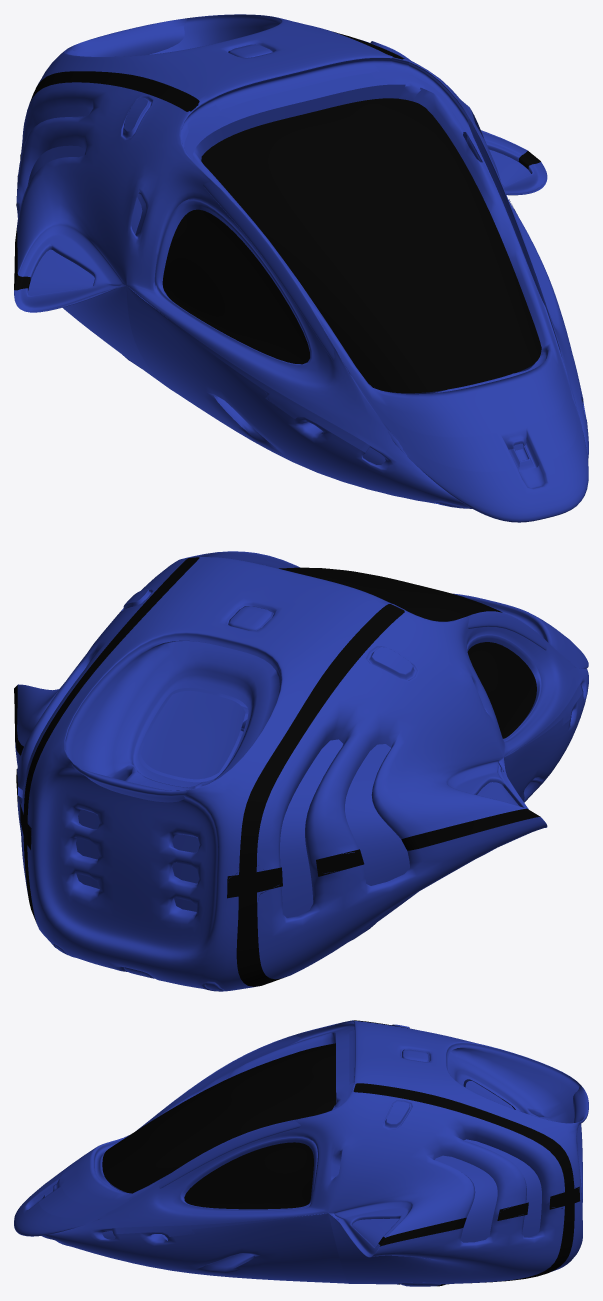
Rendered from Car1_Maya.fbx.
The picture shows the model from 3 angles, top to bottom: view 1: azimuth 30°, elevation 25°; view 2: azimuth 150°, elevation 25°; view 3: azimuth 270°, elevation 25°; orthographic projection. The views are drawn at different scales.
Visible parts, largest first — view 1: Car; view 2: Car; view 3: Car.
Part boxes in pixels (x1,y1,x2,y2): Car: (14,14,588,522); Car: (14,551,588,991); Car: (14,1020,588,1286).
Bounding box in the file's own units: 112 × 62.83 × 156.
